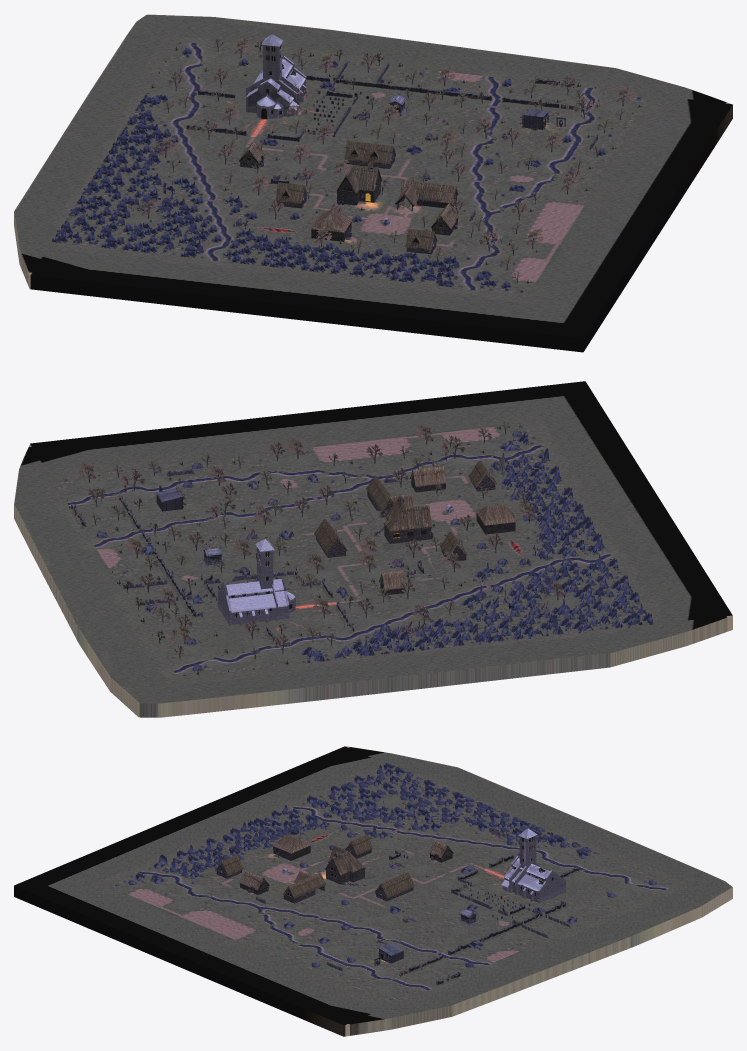
The model's file is tristram_textured.glb.
3 renders of one model, top to bottom at view 1: azimuth 30°, elevation 25°; view 2: azimuth 150°, elevation 25°; view 3: azimuth 270°, elevation 25°, orthographic. The views are drawn at different scales.
Parts seen in each view (by area): view 1: ground, rocks, trees, as cards, fences and low walls, The Cathedral: walls, Griswold's forge: roofs, The Cathedral: roofs, Tavern of the Rising Sun: roofs, Cottage, north: roofs, Pepin's house: roofs, Cottage, south-east: roofs, Cottage, south-west: roofs; view 2: ground, rocks, trees, as cards, fences and low walls, The Cathedral: walls, The Cathedral: roofs, Tavern of the Rising Sun: roofs, Griswold's forge: roofs, Pepin's house: roofs, House by the town's entrance: roofs, Cottage, north: roofs; view 3: ground, rocks, fences and low walls, The Cathedral: walls, The Cathedral: roofs, Tavern of the Rising Sun: roofs, Griswold's forge: roofs, Cottage, north: roofs.
Boxes of the visible parts, x1,y1,x2,y2 form: ground: [14, 14, 732, 352]; rocks: [52, 42, 640, 292]; trees, as cards: [141, 38, 642, 289]; fences and low walls: [186, 60, 597, 220]; The Cathedral: walls: [246, 44, 306, 118]; Griswold's forge: roofs: [395, 180, 458, 206]; The Cathedral: roofs: [245, 34, 306, 110]; Tavern of the Rising Sun: roofs: [336, 163, 381, 193]; Cottage, north: roofs: [344, 140, 396, 164]; Pepin's house: roofs: [310, 209, 352, 232]; Cottage, south-east: roofs: [405, 228, 437, 250]; Cottage, south-west: roofs: [275, 182, 307, 203]; ground: [14, 381, 732, 717]; rocks: [64, 425, 652, 675]; trees, as cards: [63, 421, 564, 674]; fences and low walls: [73, 469, 423, 644]; The Cathedral: walls: [217, 547, 294, 625]; The Cathedral: roofs: [217, 539, 289, 617]; Tavern of the Rising Sun: roofs: [383, 495, 431, 532]; Griswold's forge: roofs: [366, 475, 414, 511]; Pepin's house: roofs: [476, 504, 516, 525]; House by the town's entrance: roofs: [410, 466, 446, 487]; Cottage, north: roofs: [314, 518, 347, 553]; ground: [14, 746, 732, 1036]; rocks: [115, 762, 670, 1000]; fences and low walls: [256, 850, 579, 985]; The Cathedral: walls: [502, 835, 565, 903]; The Cathedral: roofs: [501, 828, 565, 894]; Tavern of the Rising Sun: roofs: [325, 845, 365, 876]; Griswold's forge: roofs: [282, 871, 326, 898]; Cottage, north: roofs: [374, 872, 414, 898].
Bounding box in the file's own units: 158 × 18.6 × 172.
16 materials, 15 textured.
